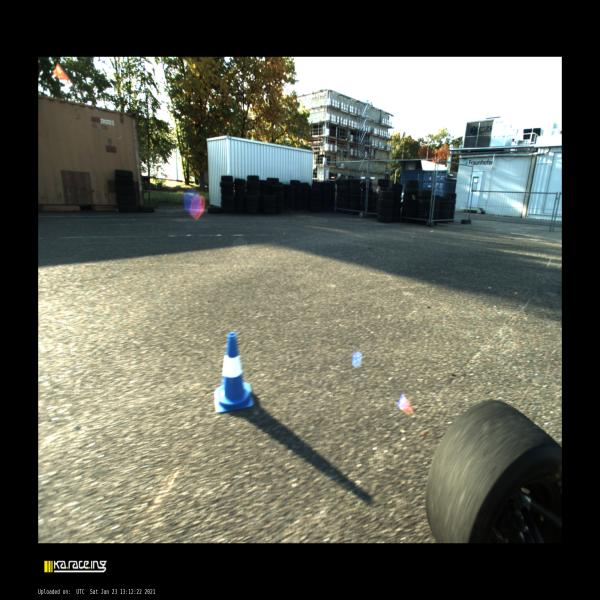blue_cone: (214, 333, 254, 413)
